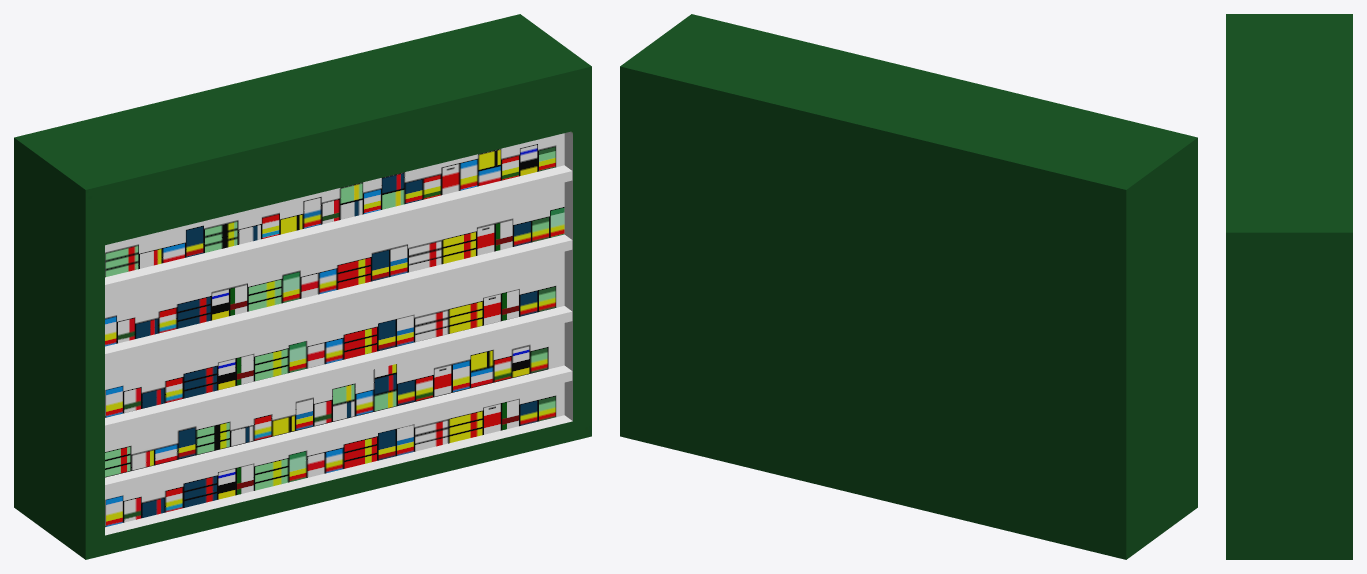
File: Est_Rem_01.FBX
3 renders of one model, left to right at view 1: azimuth 30°, elevation 25°; view 2: azimuth 150°, elevation 25°; view 3: azimuth 270°, elevation 25°, orthographic. The views are drawn at different scales.
Parts seen in each view (by area): view 1: Est_01, Est_Rem_01; view 2: Est_01; view 3: Est_01.
Boxes of the visible parts, x1,y1,x2,y2 form: Est_01: [14, 14, 591, 559]; Est_Rem_01: [105, 133, 564, 527]; Est_01: [620, 14, 1197, 559]; Est_01: [1226, 14, 1352, 559].
Size of the model in its own units: 530 by 370 by 130.
Materials: 2 (2 with a texture image).
